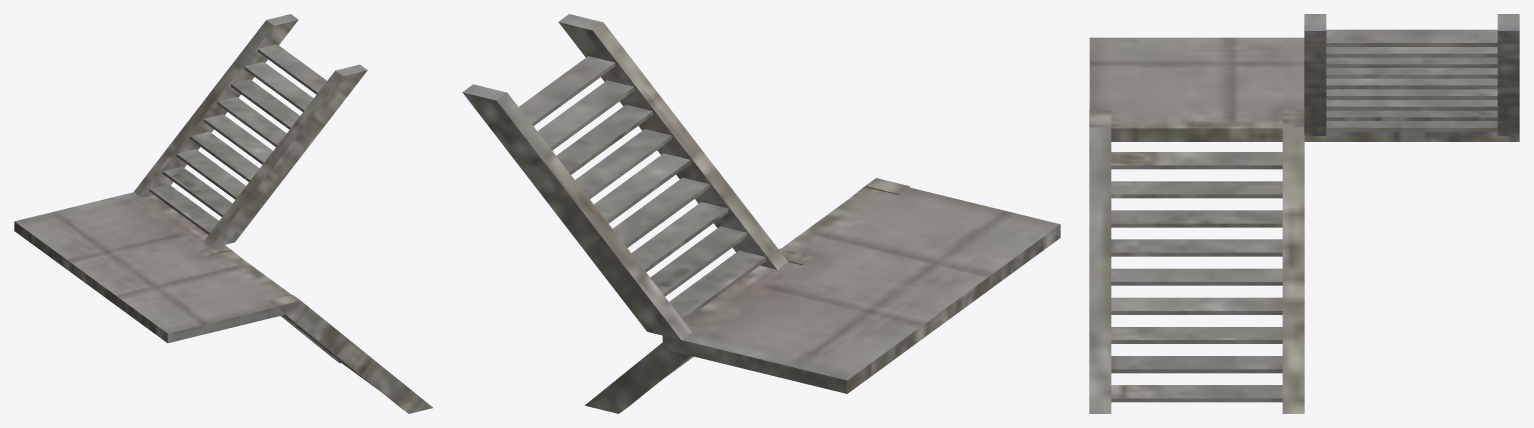
The model's file is stone_stairs_u_shape_textured.glb.
3 views of the same model, side by side, from view 1: azimuth 30°, elevation 25°; view 2: azimuth 150°, elevation 25°; view 3: azimuth 270°, elevation 25° (orthographic). The views are drawn at different scales.
Parts seen in each view (by area): view 1: Cube.001; view 2: Cube.001; view 3: Cube.001.
Boxes of the visible parts, <box> form: Cube.001: <box>14,14,432,413</box>; Cube.001: <box>462,14,1060,413</box>; Cube.001: <box>1089,14,1519,413</box>.
Bounding box in the file's own units: 2.08 × 2.01 × 2.
1 material, 1 textured.
